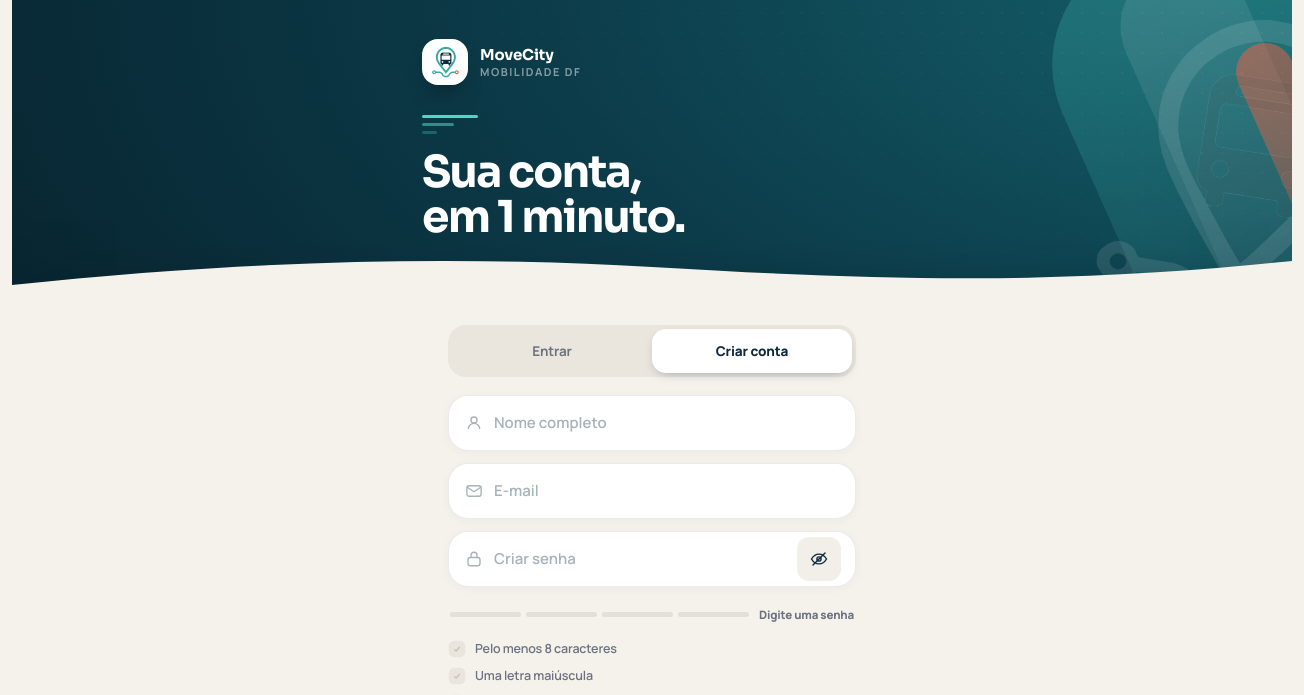
Test: Cadastro › cadastra com sucesso quando todos os campos são válidos
In the field labelled "Nome": (668, 423) [494,396,841,450], type "Ana Passageira"
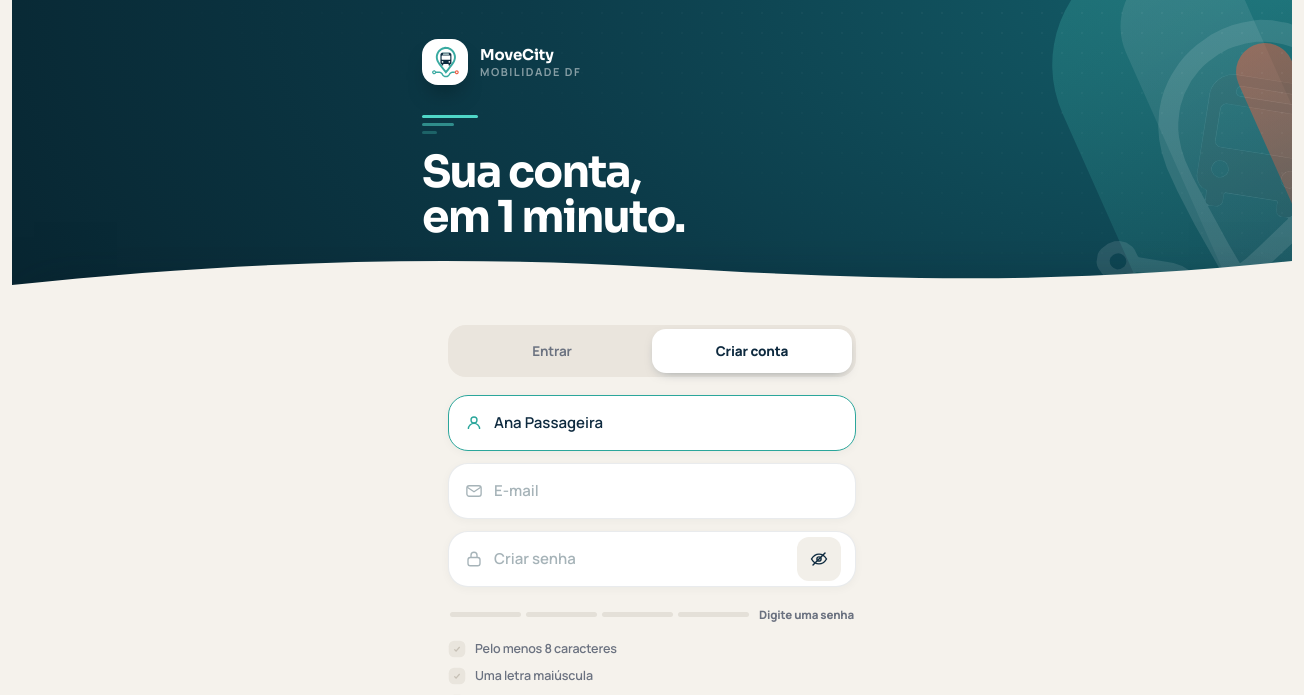
In the field labelled "E-mail": (668, 491) [494,464,841,518], type "ana@example.com"
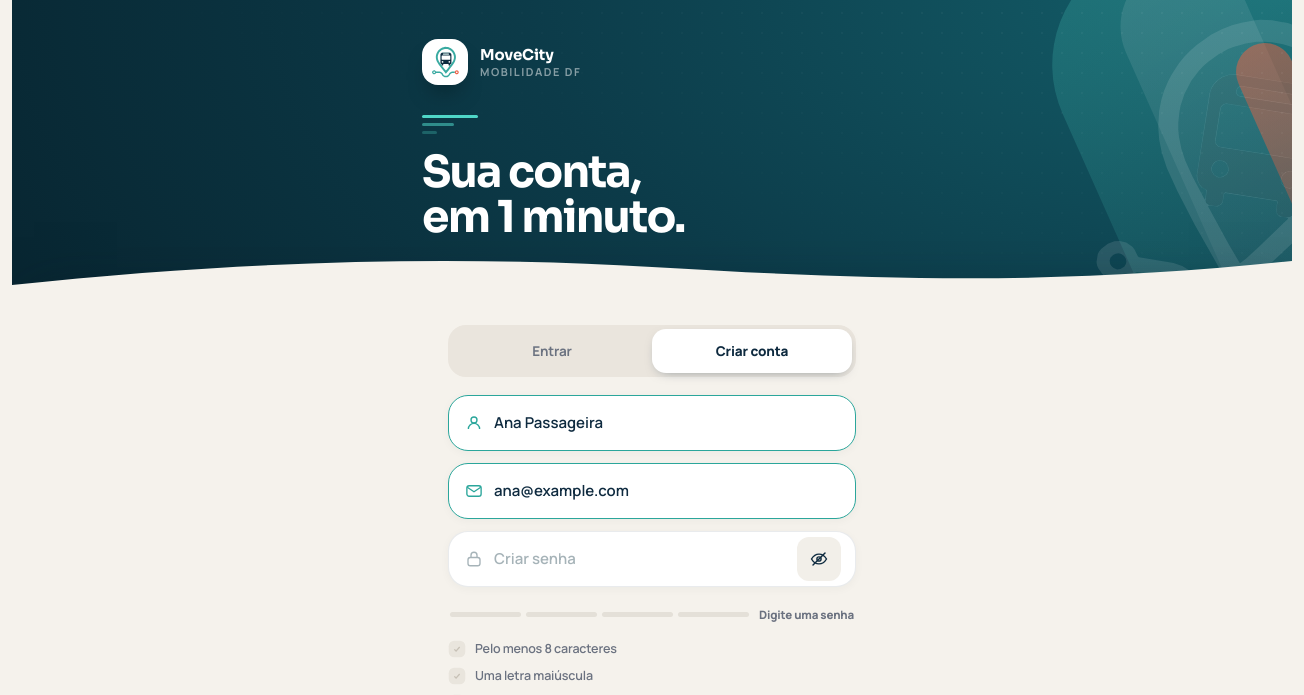
In the password field labelled "senha": (640, 559) [494,532,786,586], type "senha123"
(page scrolled)
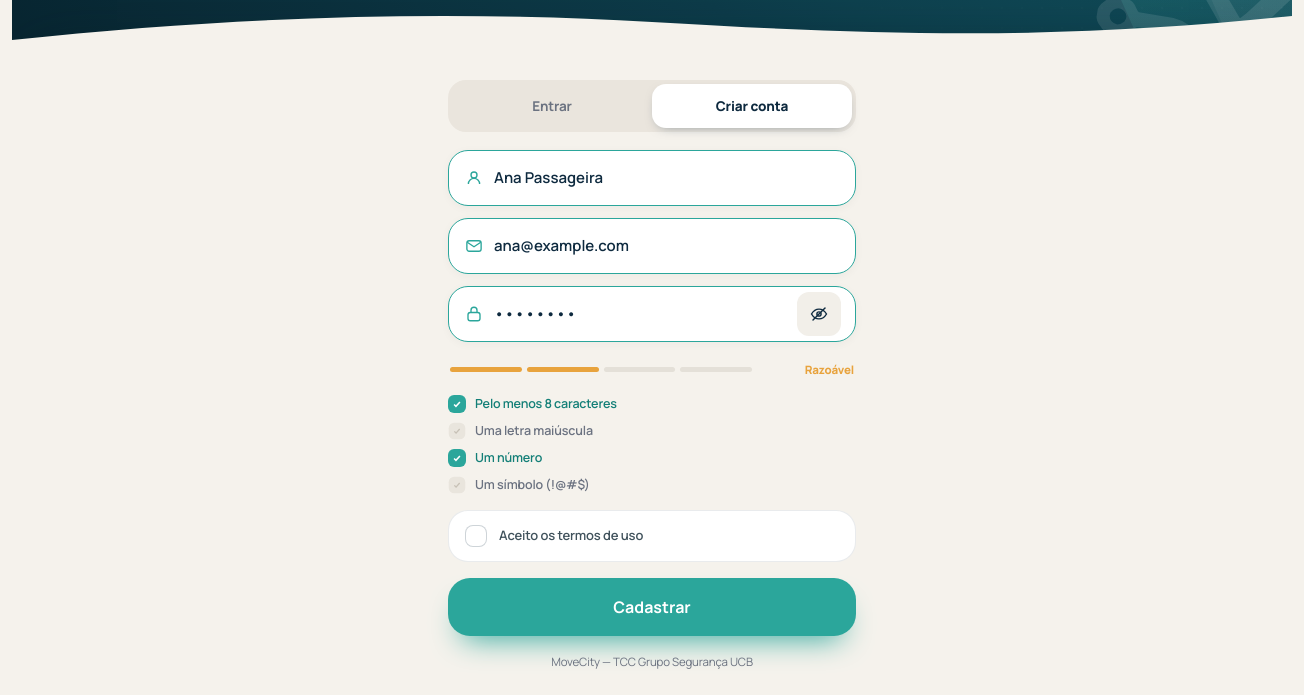
Click the checkbox labelled "Aceito os termos de uso": (571, 535) [448,510,856,562]
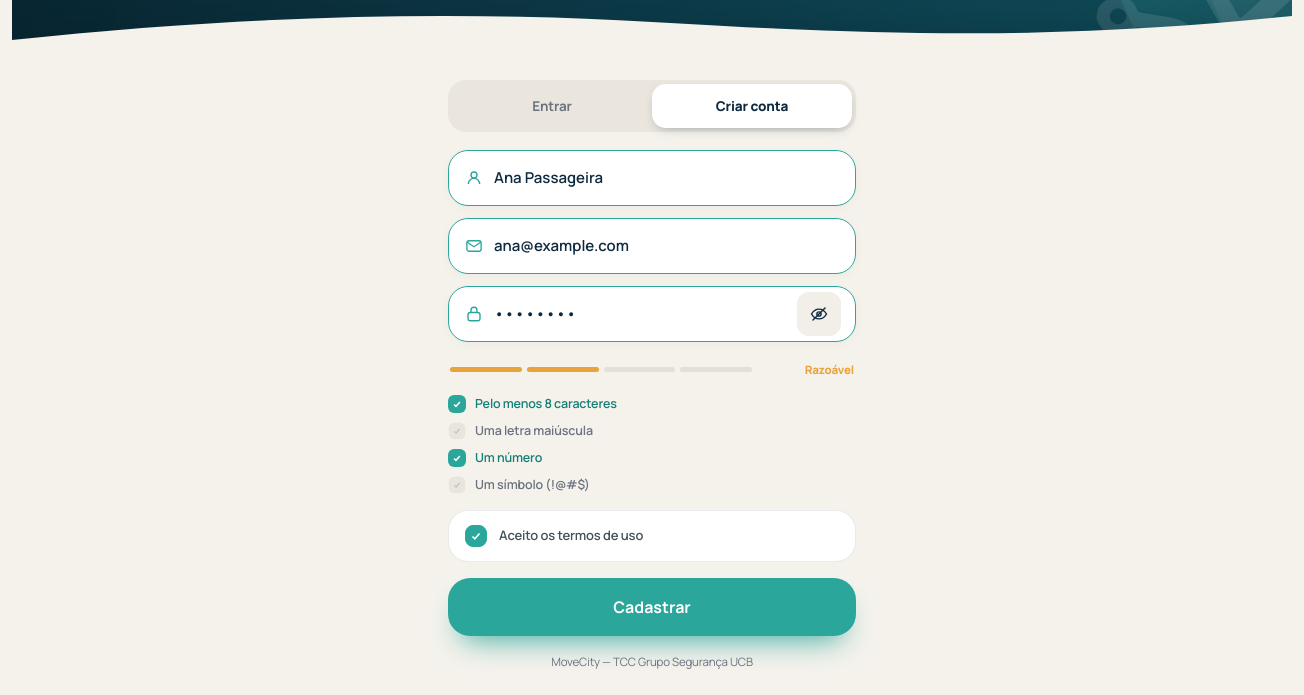
Click the button "Cadastrar": (652, 607) [448,578,856,636]
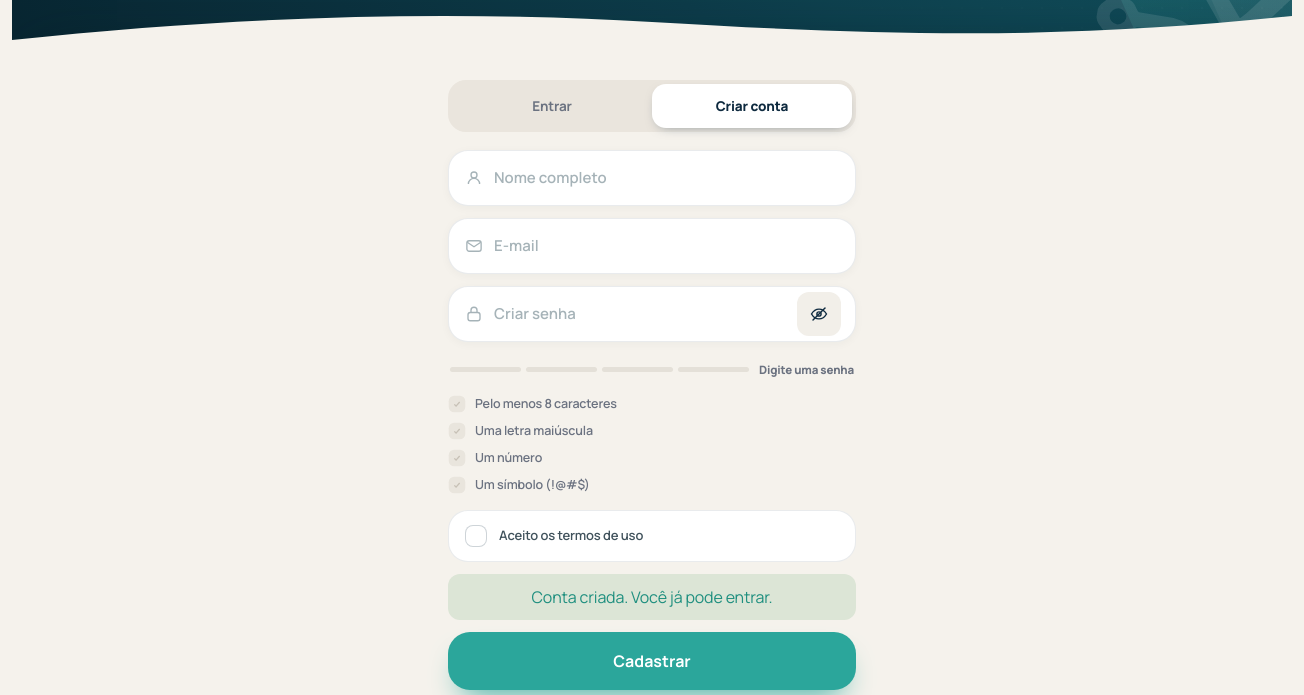
Expected: the text "Conta criada. Você já pode entrar." is shown, [448,574,856,620]
